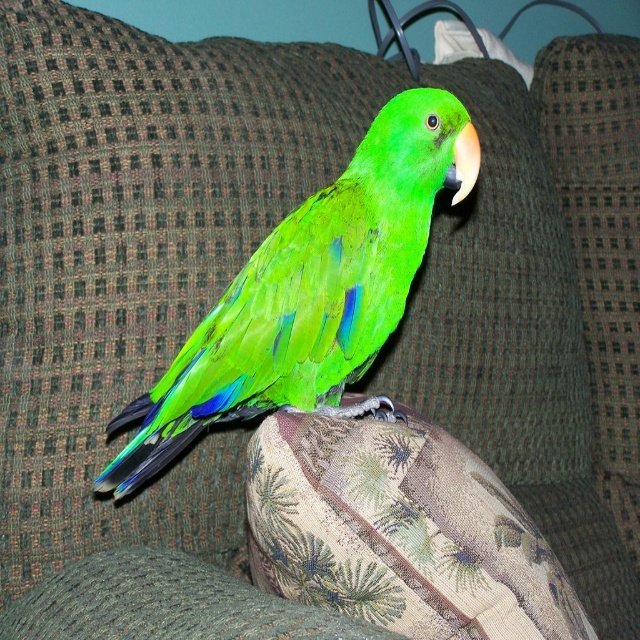Parrot: (93, 87, 481, 501)
